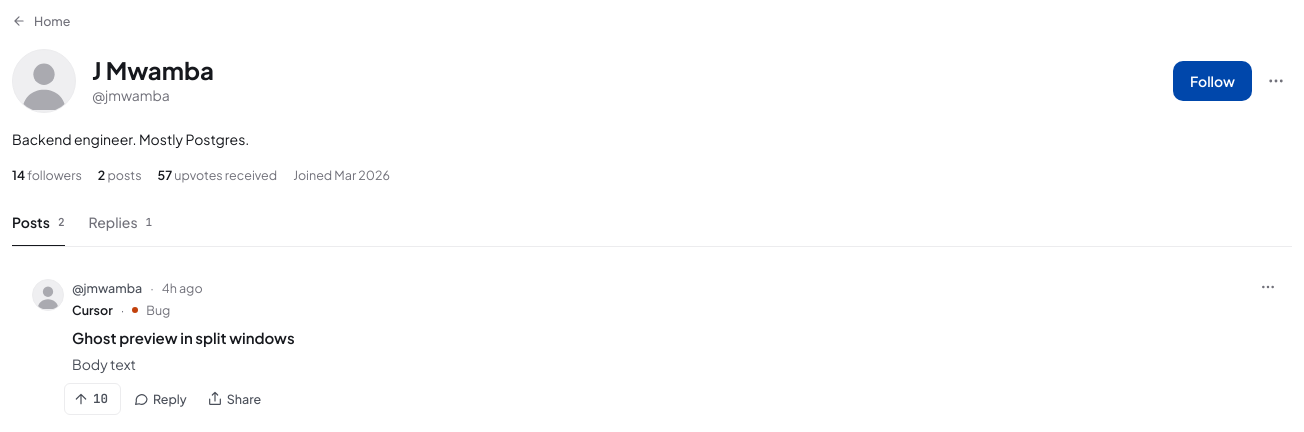
Test: user page › shows who they are, their numbers, posts and replies
Expected: the heading "J Mwamba" is shown, [92, 55, 214, 85]
Expected: the text "@jmwamba" is shown, [92, 86, 170, 104]
Click the tab "Replies 1" at (120, 224), box [88, 200, 152, 247]
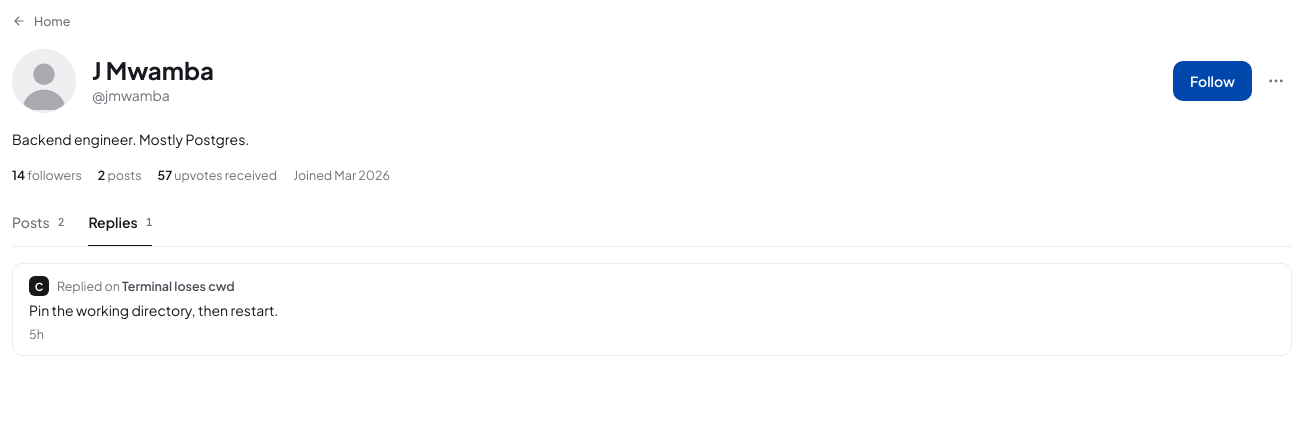
Result: the text "Pin the working directory, then restart." is shown at [29, 301, 278, 319]
Result: the text "Terminal loses cwd" is shown at [122, 278, 235, 294]
